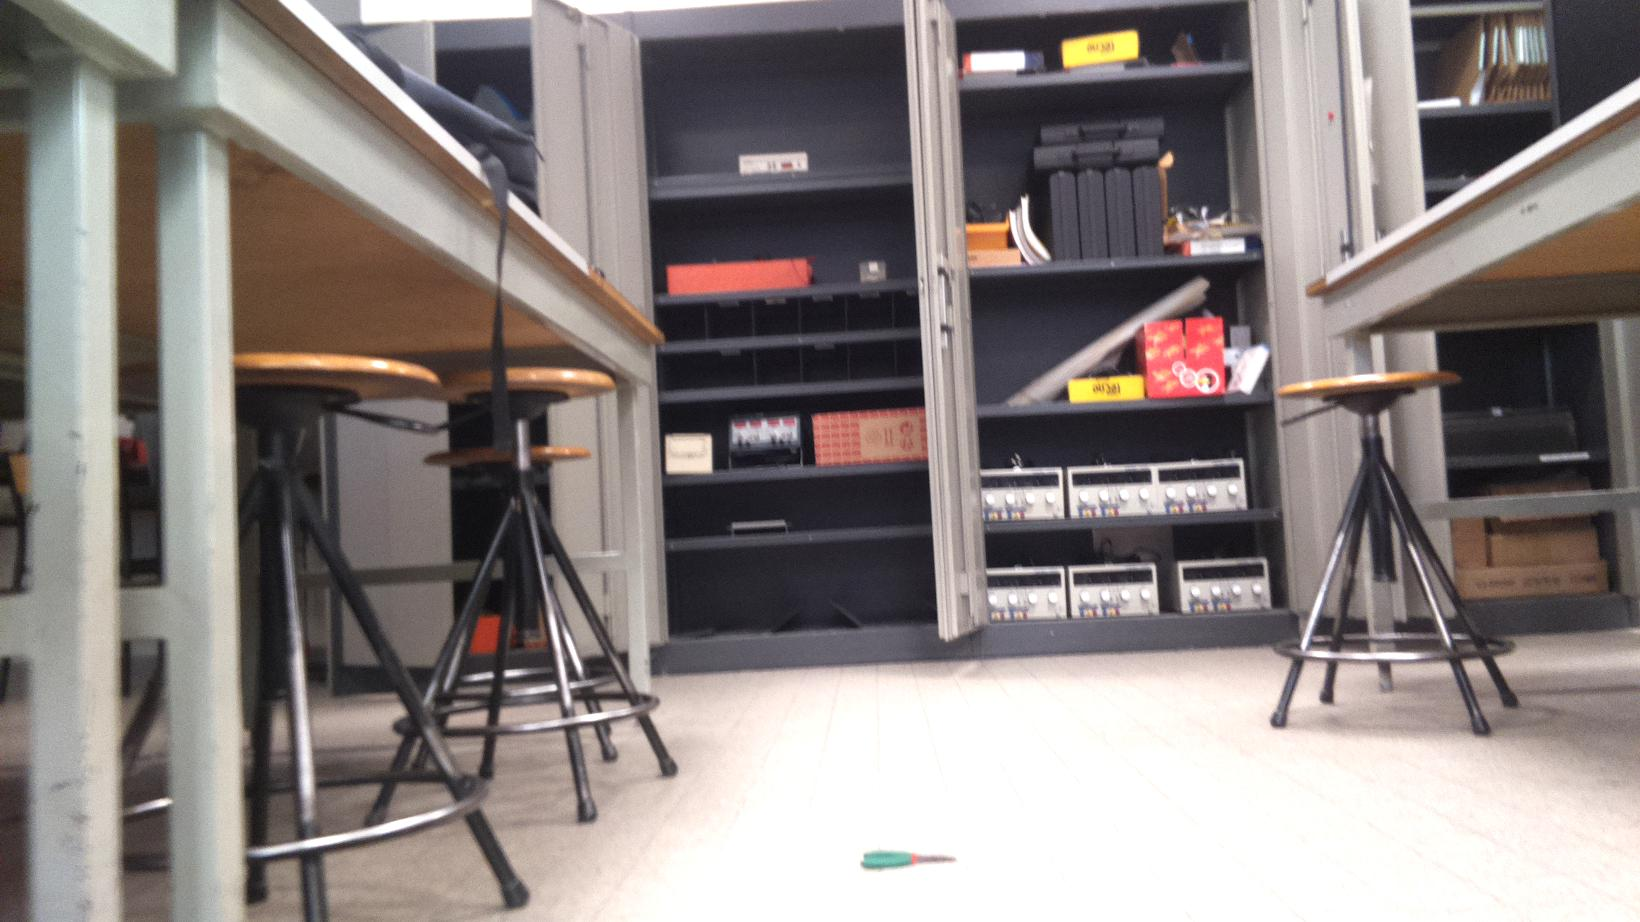small: (858, 845, 961, 874)
